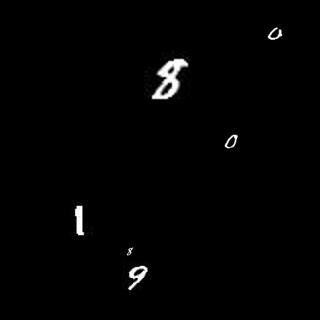eight: (150, 57, 191, 102), (120, 243, 137, 258)
nine: (127, 268, 154, 294)
one: (73, 198, 86, 238)
zero: (264, 27, 284, 45), (220, 132, 239, 149)
